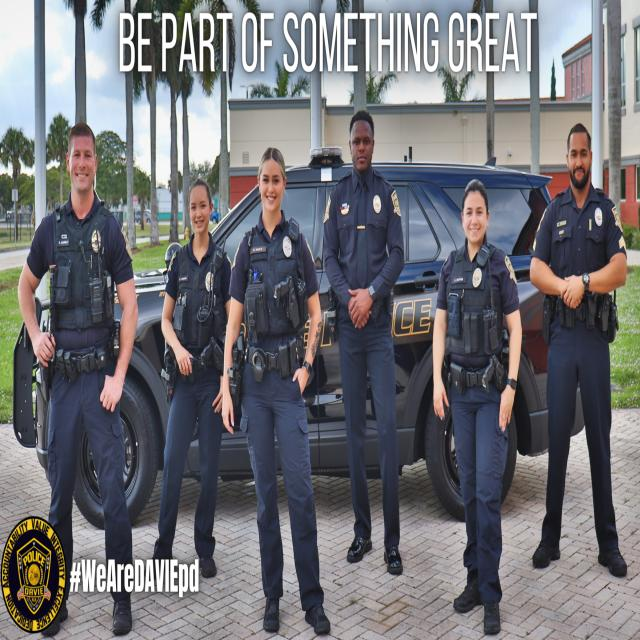police: (529, 101, 640, 604), (221, 122, 330, 630), (21, 109, 139, 572), (316, 91, 418, 565), (428, 165, 523, 640), (152, 179, 235, 572)
